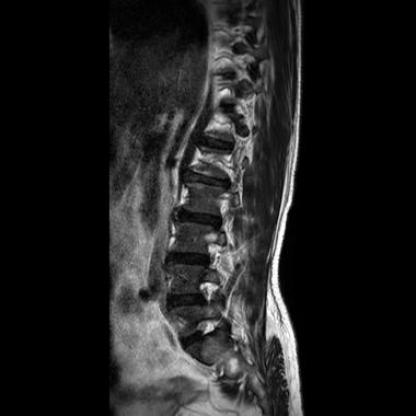Annular Tearrotation: (161, 289, 209, 312)
Disc Bulgerotation: (165, 247, 213, 270), (161, 289, 209, 312), (173, 205, 221, 228)
Disc Protrusionrotation: (181, 170, 229, 190)
